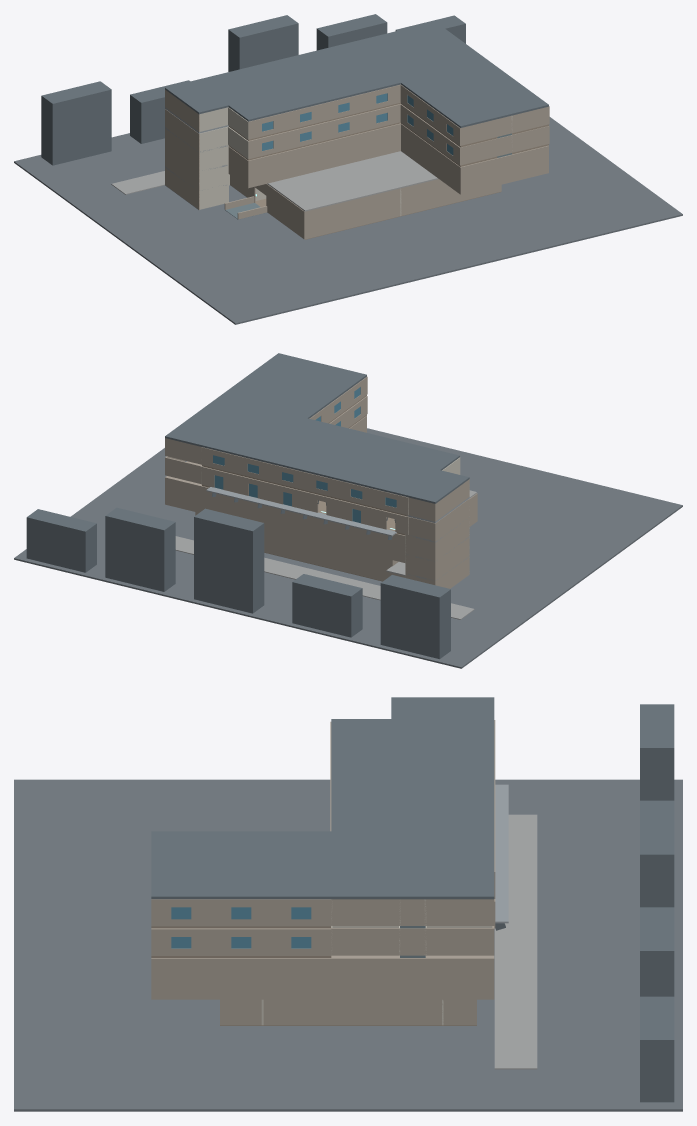
The model's file is stage04.gltf.
The picture shows the model from 3 angles, top to bottom: view 1: azimuth 30°, elevation 25°; view 2: azimuth 150°, elevation 25°; view 3: azimuth 270°, elevation 25°; orthographic projection. The views are drawn at different scales.
Visible parts, largest first — view 1: Street_Floor.001, Roof_0.001, Roof_2.001, Roof_1.001, F1_Lobby_Ceiling.001, CityBackdrop_4.001, LowerFacadeBlock_1.001, F1_SouthExterior_Wall.001, LowerFacadeBlock_2.001, CityBackdrop_2.001, CityBackdrop_3.001, F4_StartWingEnd_Wall.001 (+15 smaller); view 2: Street_Floor.001, Roof_0.001, CityBackdrop_2.001, LowerFacadeBlock_0.001, Roof_2.001, CityBackdrop_1.001, CityBackdrop_4.001, Roof_1.001, CityBackdrop_3.001, CityBackdrop_0.001, F1_NorthExterior_Wall.001, Sidewalk_Floor.001 (+12 smaller); view 3: Street_Floor.001, Roof_0.001, Roof_2.001, Roof_1.001, Sidewalk_Floor.001, LowerFacadeBlock_2.001, F1_WestExterior_Wall.001, LowerFacadeBlock_0.001, F4_CoreWestFacade.001, F5_CoreWestFacade.001, CityBackdrop_0.001, CityBackdrop_4.001 (+4 smaller).
Boxes of the visible parts, <box> form: Street_Floor.001: <box>14,117,682,324</box>; Roof_0.001: <box>165,21,468,114</box>; Roof_2.001: <box>401,61,548,127</box>; Roof_1.001: <box>228,46,488,121</box>; F1_Lobby_Ceiling.001: <box>267,151,438,211</box>; CityBackdrop_4.001: <box>41,81,111,165</box>; LowerFacadeBlock_1.001: <box>228,123,400,188</box>; F1_SouthExterior_Wall.001: <box>305,179,501,239</box>; LowerFacadeBlock_2.001: <box>401,124,548,194</box>; CityBackdrop_2.001: <box>228,15,298,71</box>; CityBackdrop_3.001: <box>130,80,190,143</box>; F4_StartWingEnd_Wall.001: <box>460,126,548,165</box>; Street_Floor.001: <box>14,428,682,668</box>; Roof_0.001: <box>165,411,469,503</box>; CityBackdrop_2.001: <box>194,508,264,613</box>; LowerFacadeBlock_0.001: <box>165,461,405,562</box>; Roof_2.001: <box>219,353,366,418</box>; CityBackdrop_1.001: <box>105,507,175,591</box>; CityBackdrop_4.001: <box>380,575,450,659</box>; Roof_1.001: <box>199,397,459,470</box>; CityBackdrop_3.001: <box>292,574,362,637</box>; CityBackdrop_0.001: <box>26,509,96,572</box>; F1_NorthExterior_Wall.001: <box>195,512,391,580</box>; Sidewalk_Floor.001: <box>175,536,474,619</box>; Street_Floor.001: <box>14,779,682,1111</box>; Roof_0.001: <box>391,697,494,899</box>; Roof_2.001: <box>151,831,331,899</box>; Roof_1.001: <box>331,719,391,899</box>; Sidewalk_Floor.001: <box>494,814,537,1069</box>; LowerFacadeBlock_2.001: <box>151,958,331,999</box>; F1_WestExterior_Wall.001: <box>220,999,476,1025</box>; LowerFacadeBlock_0.001: <box>391,955,494,999</box>; F4_CoreWestFacade.001: <box>331,928,494,955</box>; F5_CoreWestFacade.001: <box>331,899,493,925</box>; CityBackdrop_0.001: <box>640,996,674,1102</box>; CityBackdrop_4.001: <box>640,704,674,800</box>.
Size of the model in its own units: 91 by 19.3 by 78.
